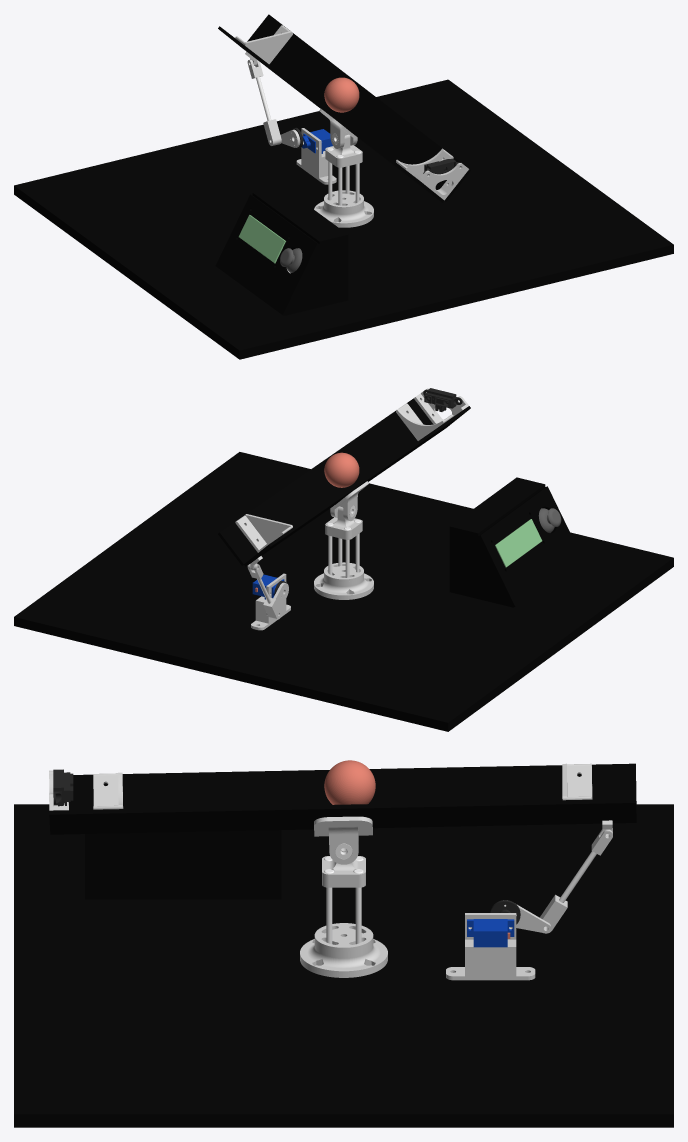
Rendered from BALANCIN v20.glb.
The picture shows the model from 3 angles, top to bottom: view 1: azimuth 30°, elevation 25°; view 2: azimuth 150°, elevation 25°; view 3: azimuth 270°, elevation 25°; orthographic projection. The views are drawn at different scales.
Parts seen in each view (by area): view 1: Node2, Node1, Node7, Node3, Node4; view 2: Node2, Node1, Node7, Node4, Node3, Node6; view 3: Node2, Node1, Node4, Node3, Node9, Node6.
Boxes of the visible parts, x1=… form: Node2: x1=14, y1=14, x2=673, y2=359; Node1: x1=235, y1=25, x2=468, y2=273; Node7: x1=238, y1=215, x2=285, y2=263; Node3: x1=256, y1=77, x2=361, y2=205; Node4: x1=324, y1=77, x2=359, y2=112; Node2: x1=14, y1=398, x2=673, y2=731; Node1: x1=235, y1=388, x2=468, y2=630; Node7: x1=495, y1=519, x2=542, y2=567; Node4: x1=255, y1=452, x2=359, y2=592; Node3: x1=257, y1=505, x2=361, y2=603; Node6: x1=274, y1=388, x2=462, y2=595; Node2: x1=14, y1=763, x2=673, y2=1127; Node1: x1=49, y1=763, x2=612, y2=980; Node4: x1=324, y1=760, x2=510, y2=938; Node3: x1=324, y1=843, x2=596, y2=944; Node9: x1=467, y1=919, x2=514, y2=947; Node6: x1=53, y1=769, x2=520, y2=927.
Size of the model in its own units: 500 by 158 by 450.
